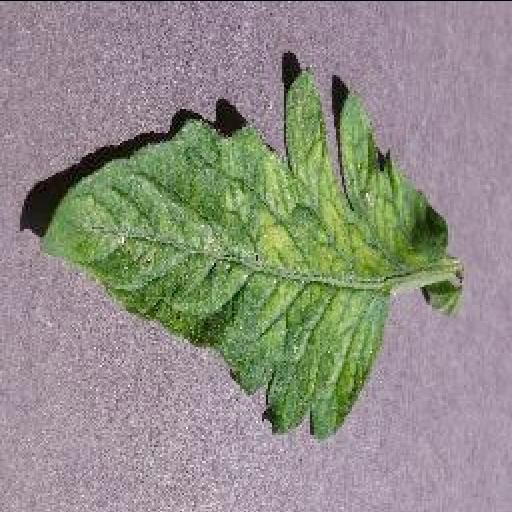Mosaic Virus: (36, 64, 454, 438)
